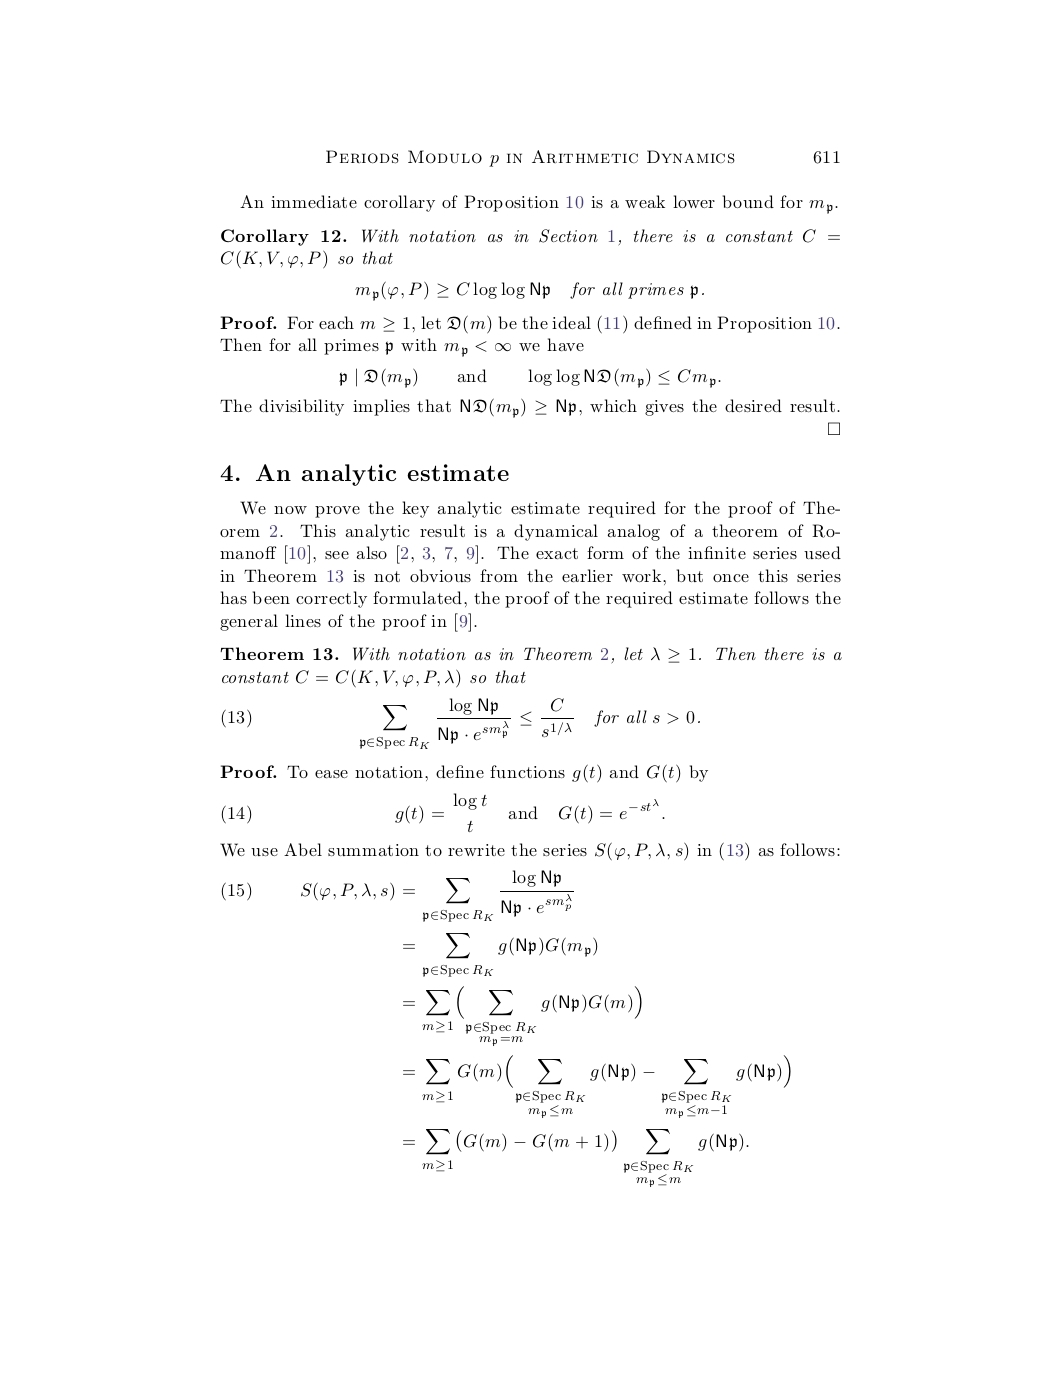formula: (221, 697, 699, 749), (403, 1055, 790, 1117), (403, 1129, 748, 1186), (221, 869, 573, 922), (221, 792, 664, 832), (403, 986, 641, 1045), (403, 933, 597, 976), (339, 367, 720, 388), (356, 280, 703, 301)
